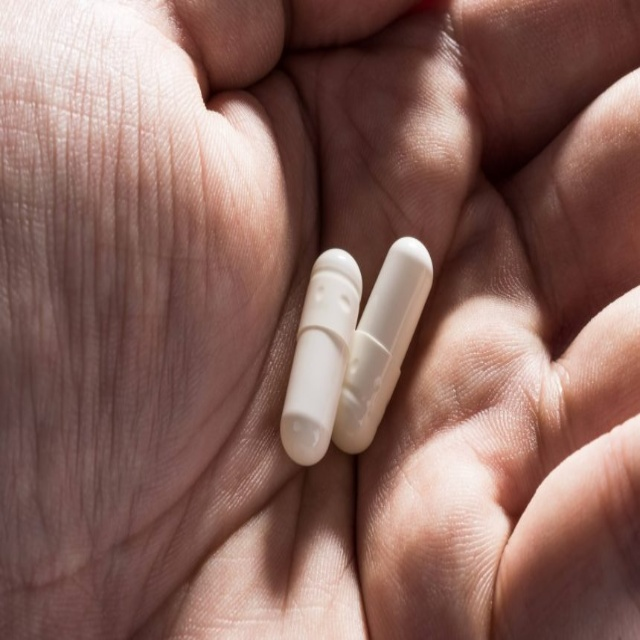pill: (442, 208, 585, 411), (377, 220, 487, 417)
